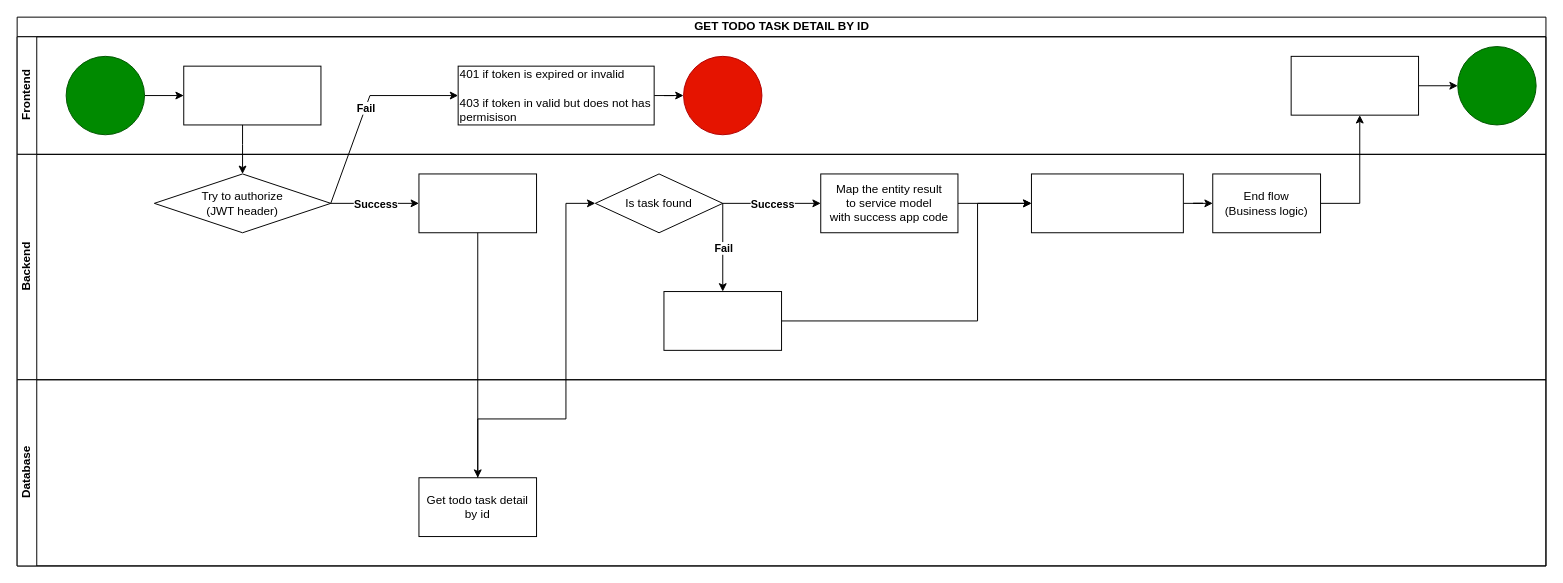
Image size: 1563x583. Some labels were removed from this diagram. Here are the shapes that lost their labels. From the top down, the centre of each, then its label:
At [252,95]: "Send prepared request (header, body,..)".
At [1354,85]: "Recieve http response".
At [477,203]: "Start flow (business logic)".
At [1106,203]: "Map from service result to http response and return to client".
At [722,320]: "return not found app code".
